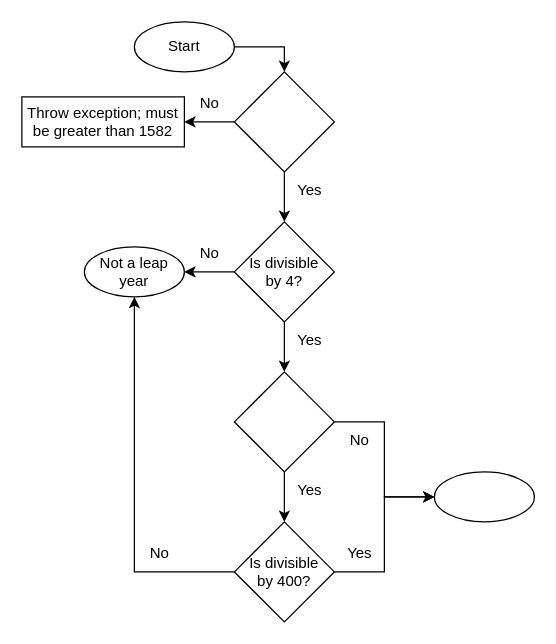
This 556x644 diagram has some shape labels left out. Each missing label, with the centre of its shape:
"Is a leap year" goes at pixel 483 496.
"Is divisible by 100?" goes at pixel 283 421.
"Is greater than 1582?" goes at pixel 283 121.
